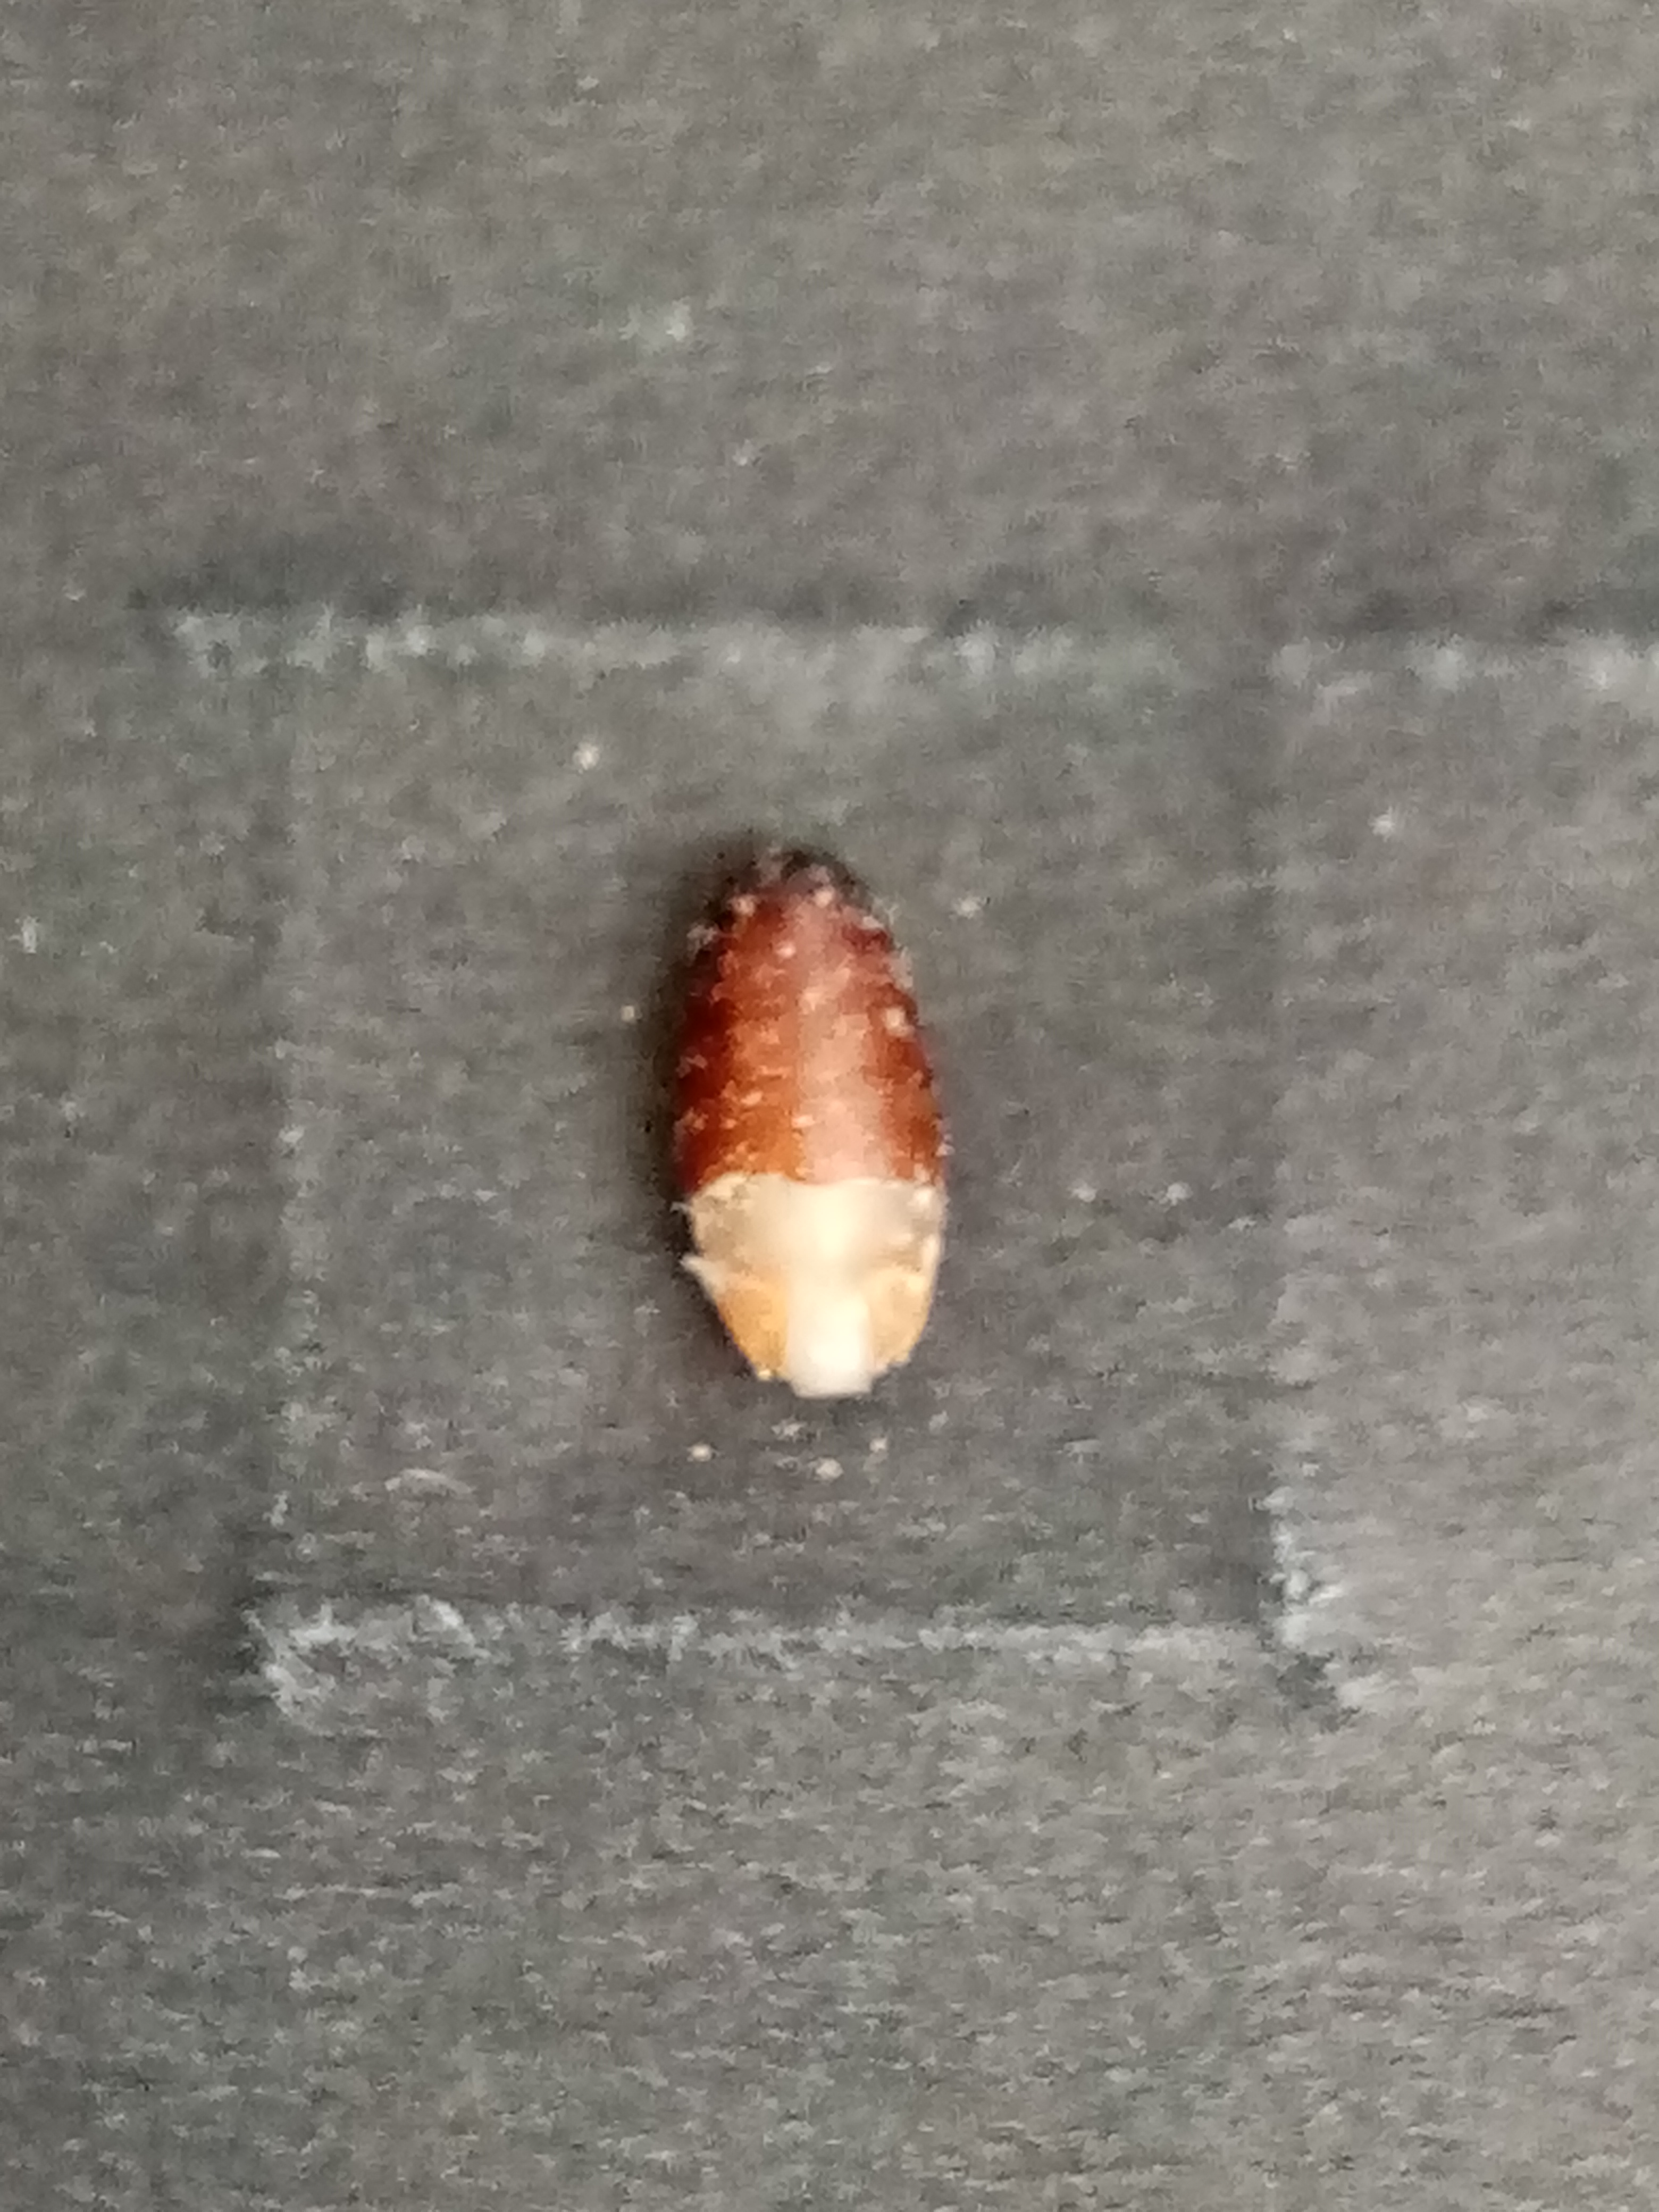pupa: (692, 1235, 951, 1397)
